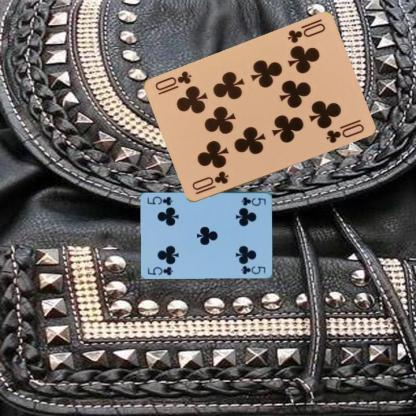10c: (189, 169, 230, 196), (284, 21, 326, 45)
5c: (239, 195, 267, 207), (146, 264, 174, 276)
